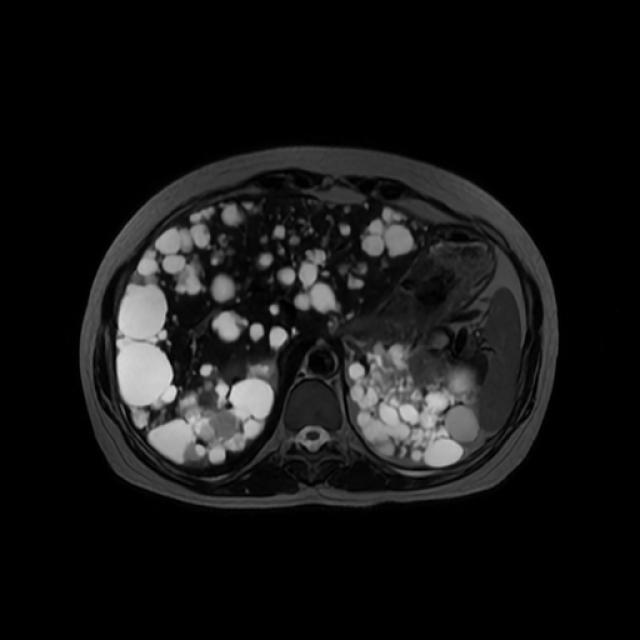sag: (146, 359, 278, 468)
sol: (347, 341, 481, 468)
